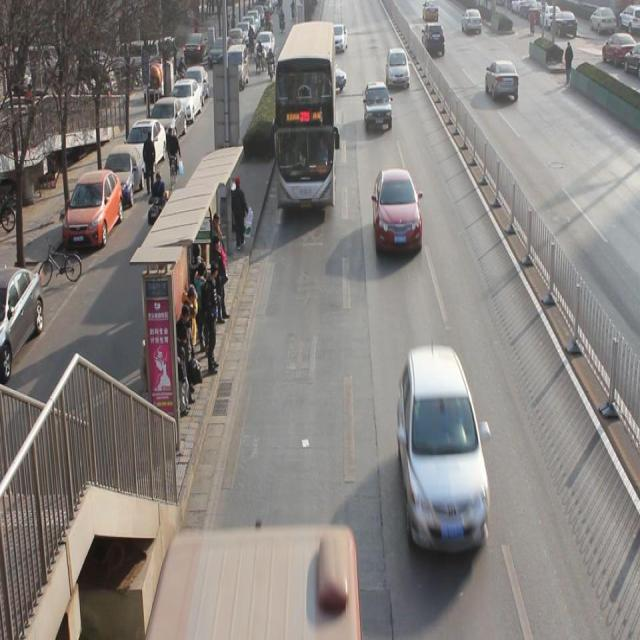car: (398, 357, 492, 557), (372, 174, 425, 253), (302, 53, 348, 94), (485, 58, 520, 106), (364, 85, 393, 133), (385, 50, 411, 90), (420, 24, 447, 60), (328, 23, 348, 54)
van: (144, 537, 358, 640), (275, 21, 336, 209)
